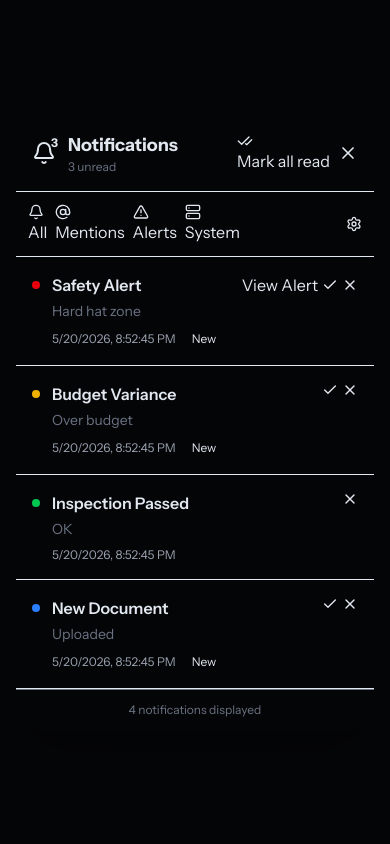
Test: NotificationCenter › deletes a notification
The image size is (390, 844).
Check: the heading "Safety Alert" is shown, box [52, 272, 141, 296]
Step 1. Click the button named "Delete" next to "View Alert" → {"x": 350, "y": 284}, box [342, 276, 358, 292]
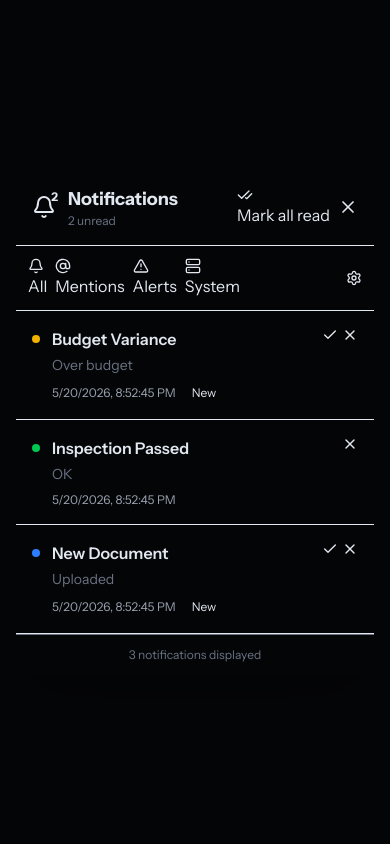
Check: the heading "Safety Alert" is gone
